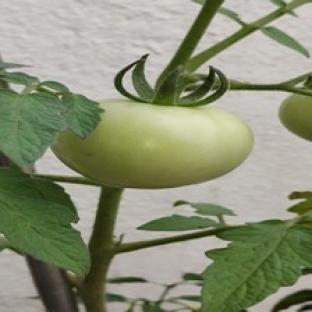Tomato: (52, 99, 253, 188), (279, 95, 311, 140)
